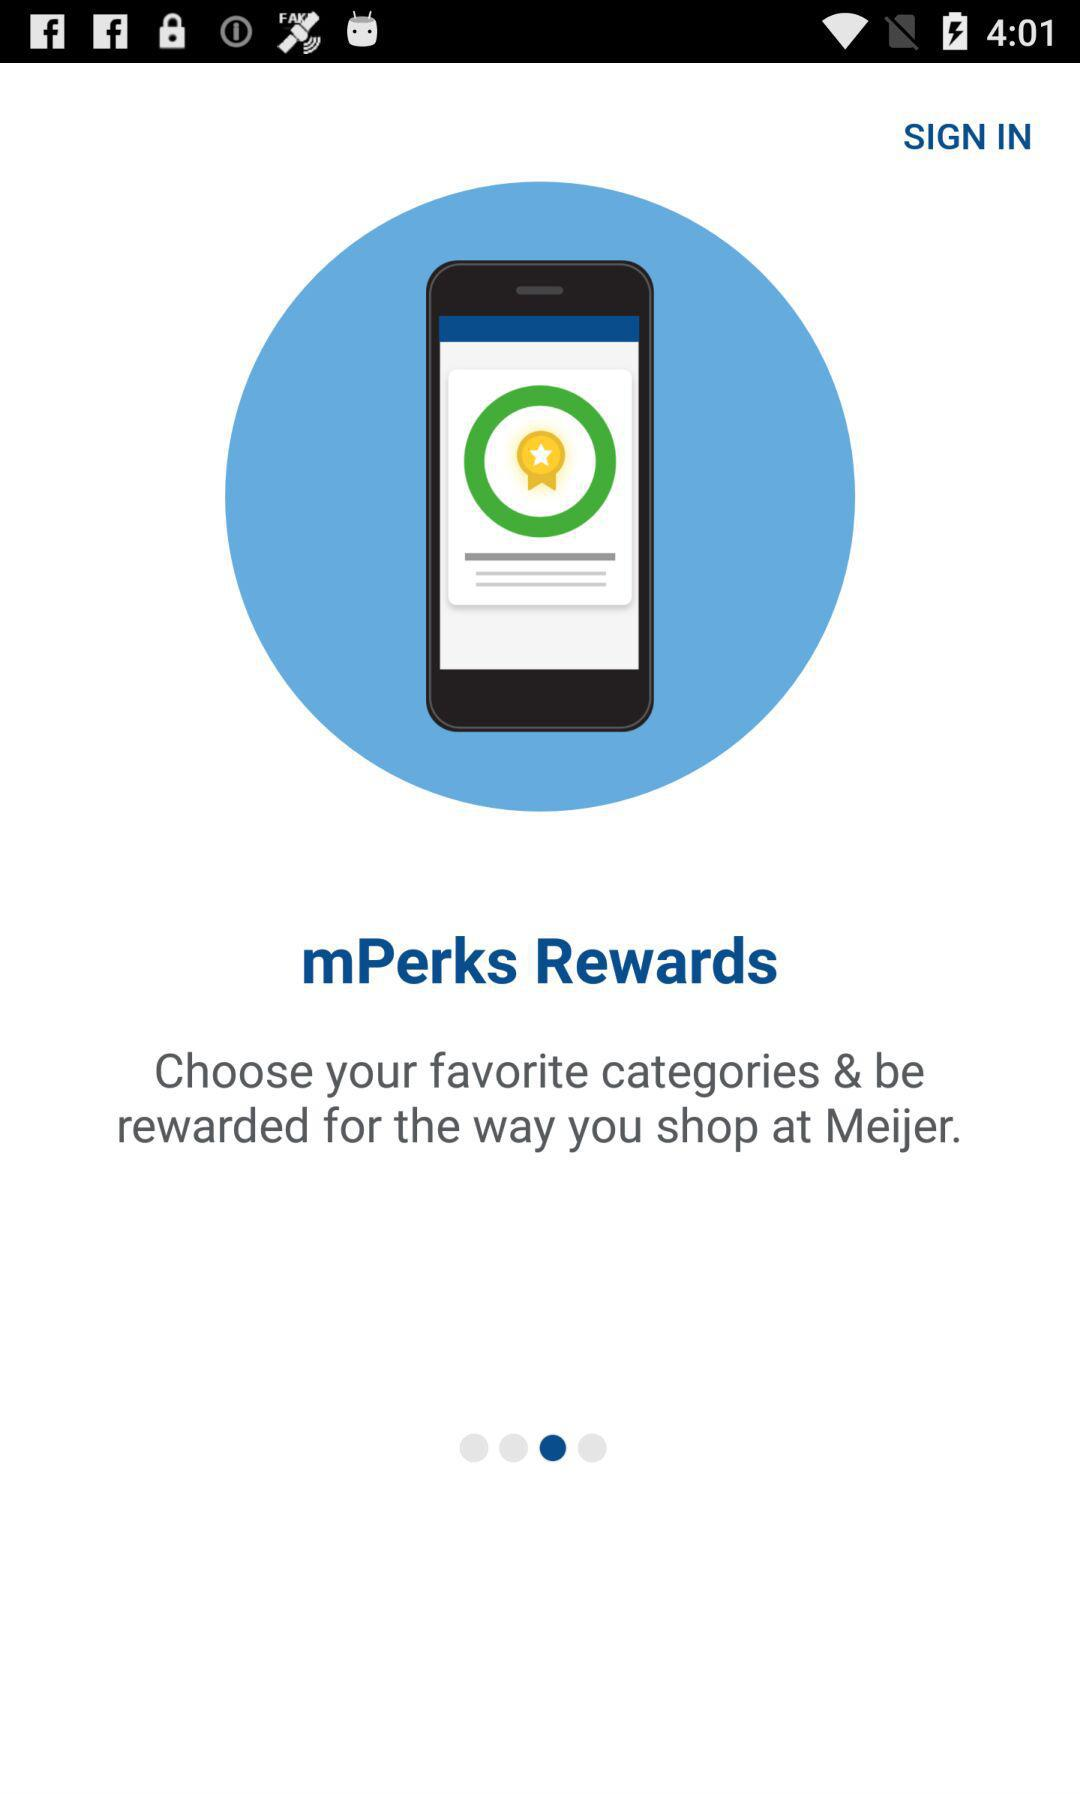Image: (225, 181, 858, 814)
PageIndicator: (459, 1431, 609, 1465)
Text: (118, 1049, 961, 1155), (304, 935, 778, 987), (903, 124, 1031, 151)
UpperTaskBar: (1, 1, 1080, 64)
